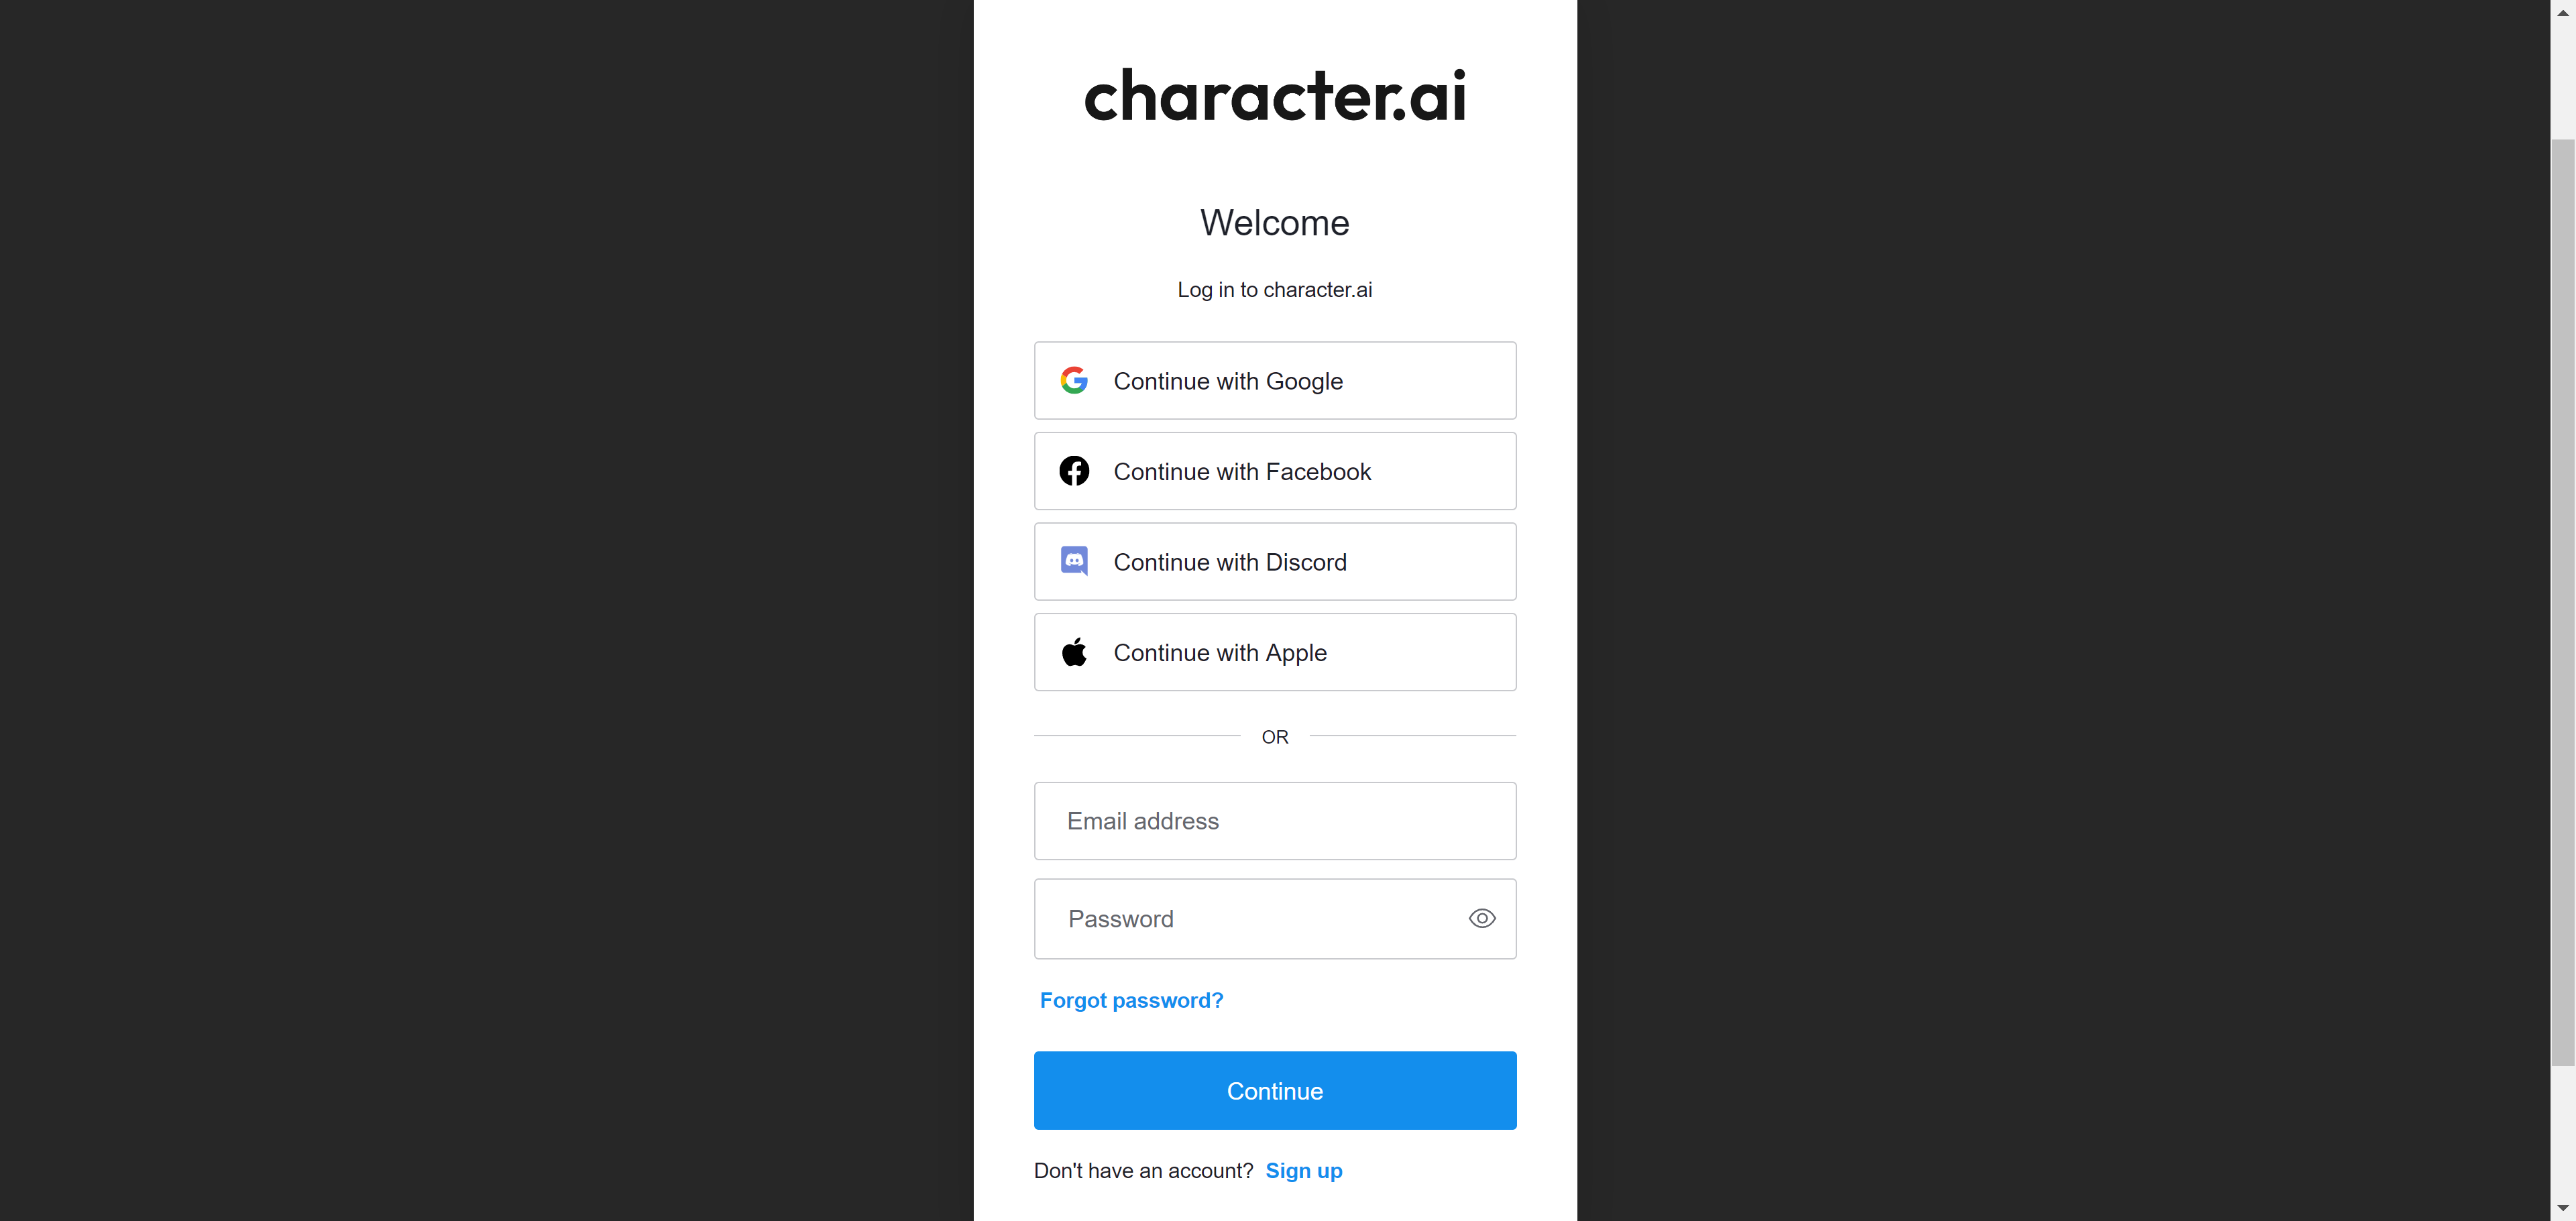login_button: (1033, 1052, 1516, 1129)
login_form: (1023, 771, 1529, 1140)
